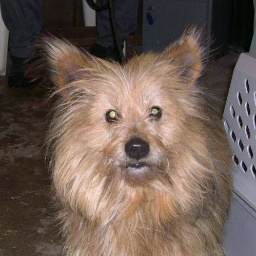dog: (37, 32, 228, 256)
